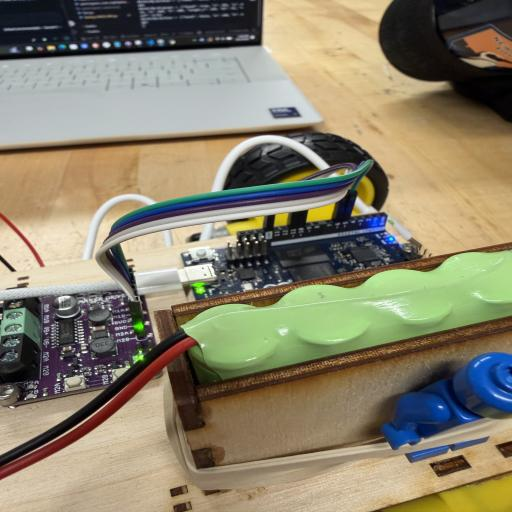Blue-Lego: (381, 352, 512, 450), (406, 436, 488, 463)
